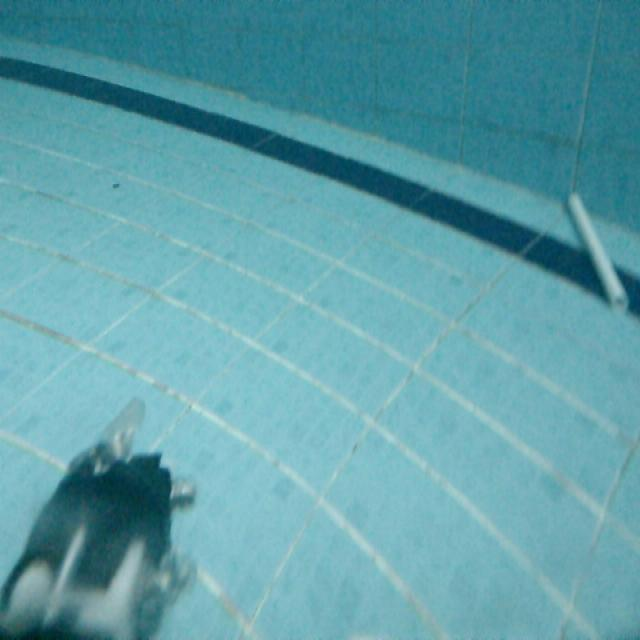Cube: (564, 187, 632, 317)
